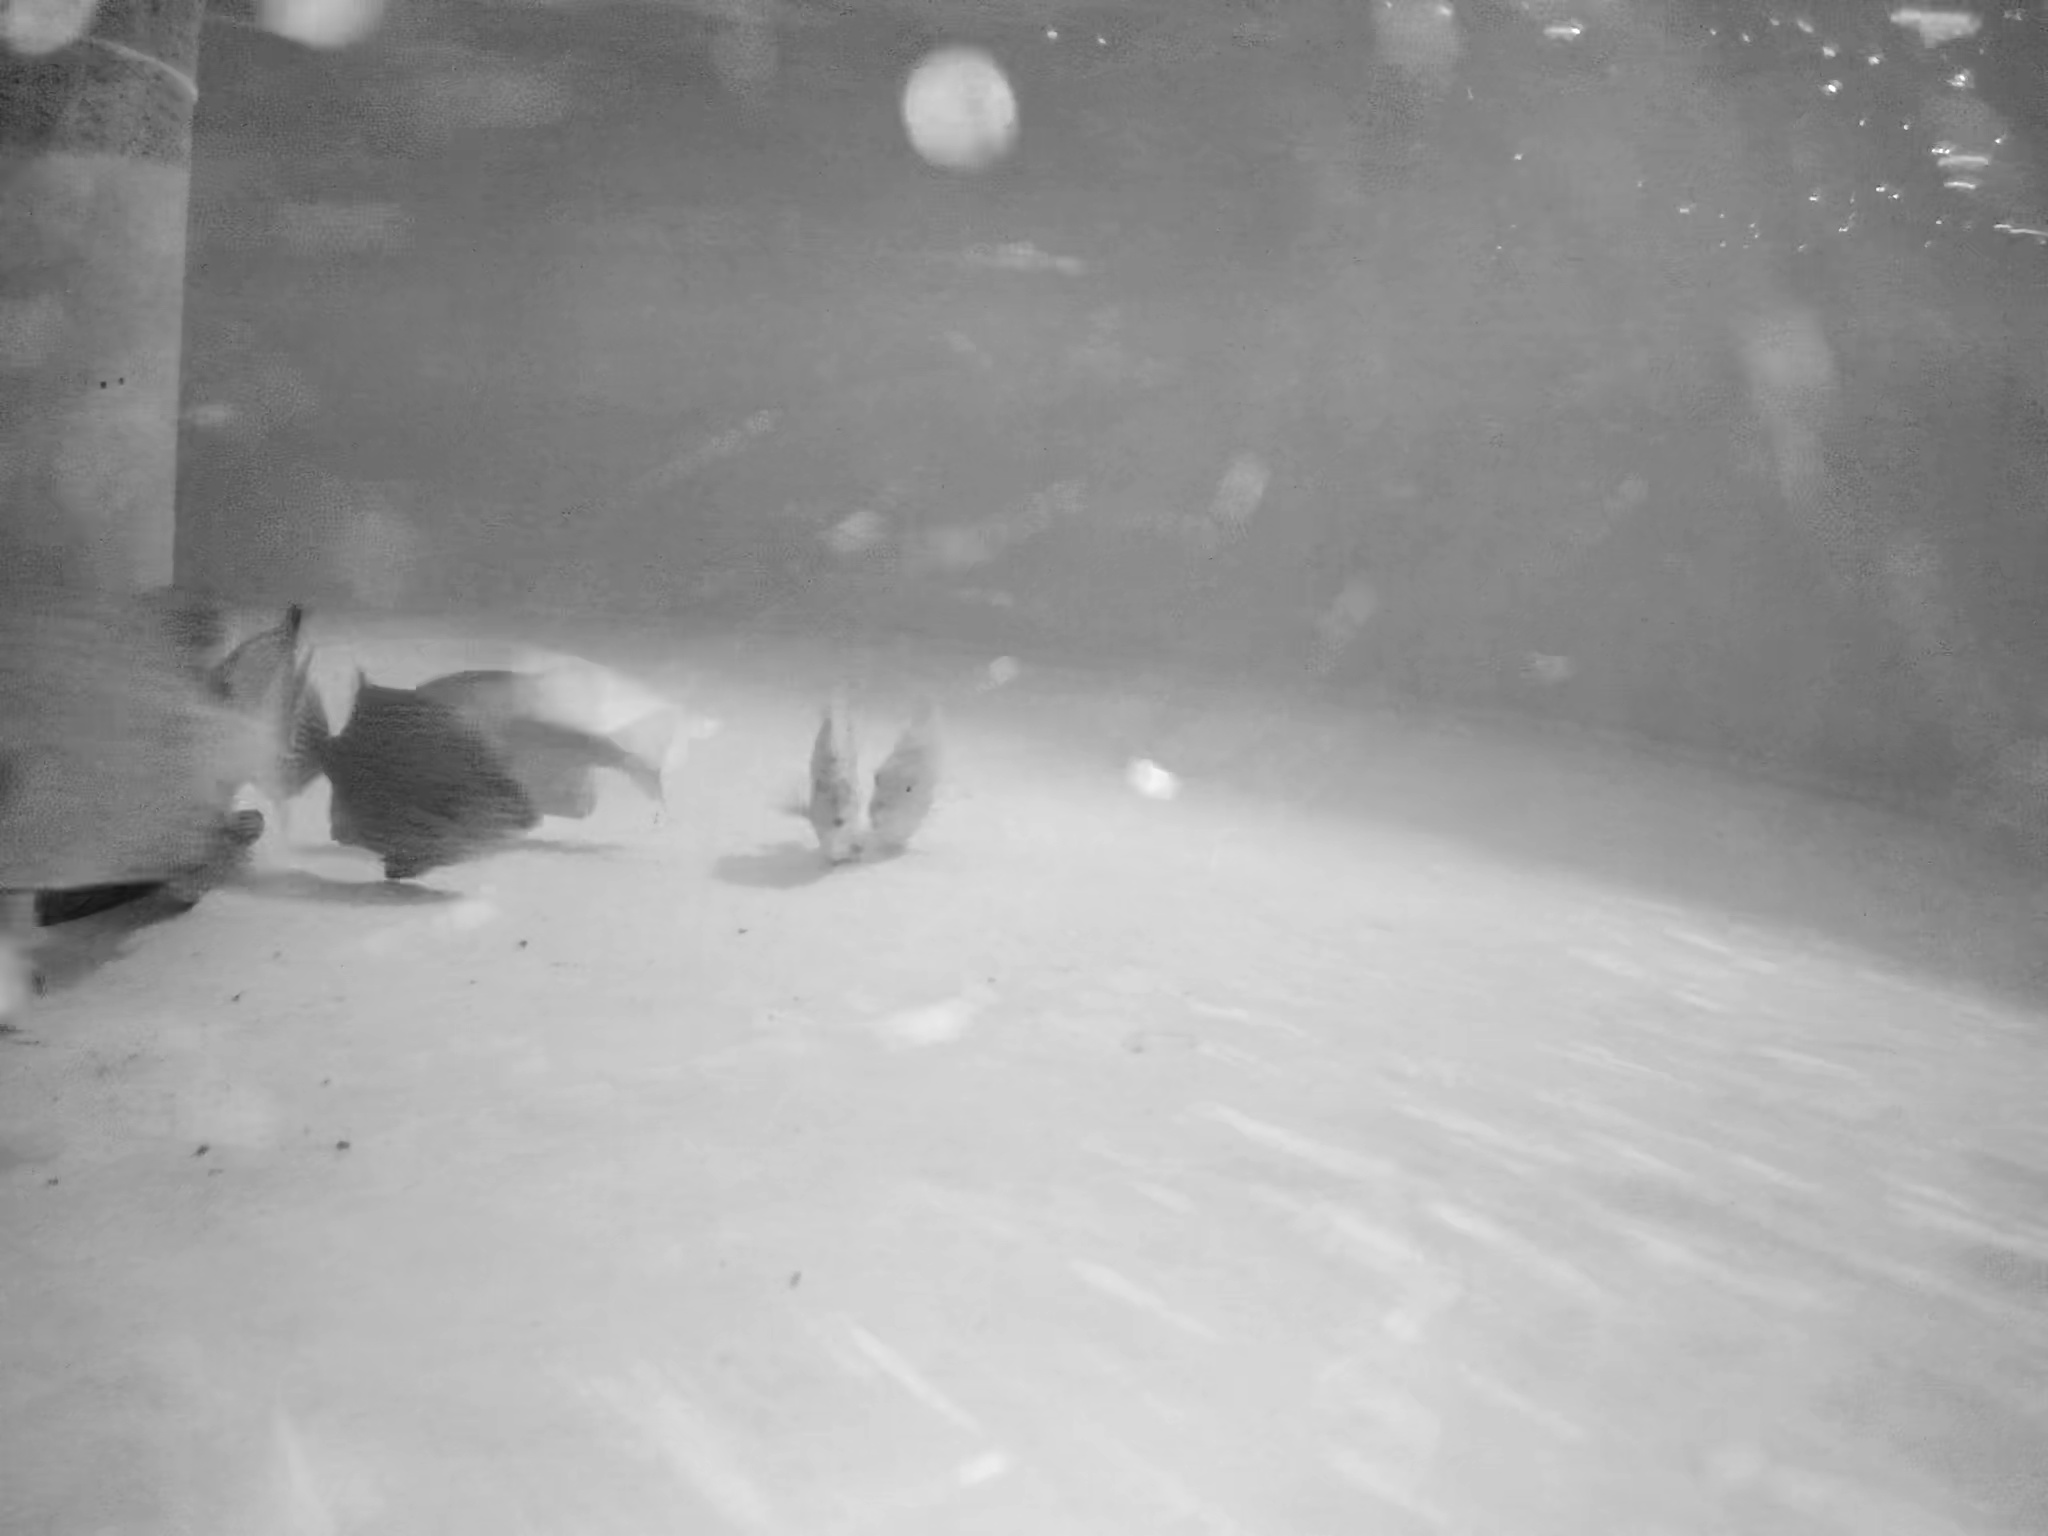fish: (2, 563, 261, 907), (290, 660, 534, 866), (423, 665, 679, 831), (210, 608, 335, 813), (784, 692, 863, 844), (872, 694, 943, 860)
